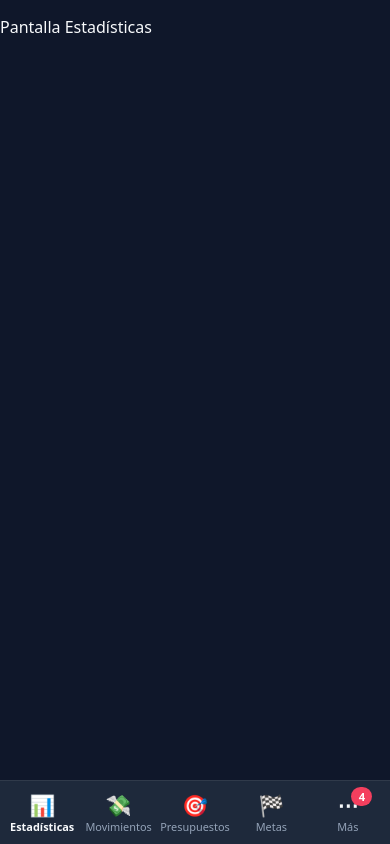
Test: MobileNav › Más abre el panel con las secciones secundarias y el contador
Click the button with aria-label "Más (4 notificaciones sin leer)" at [348, 814], box [310,785,386,843]
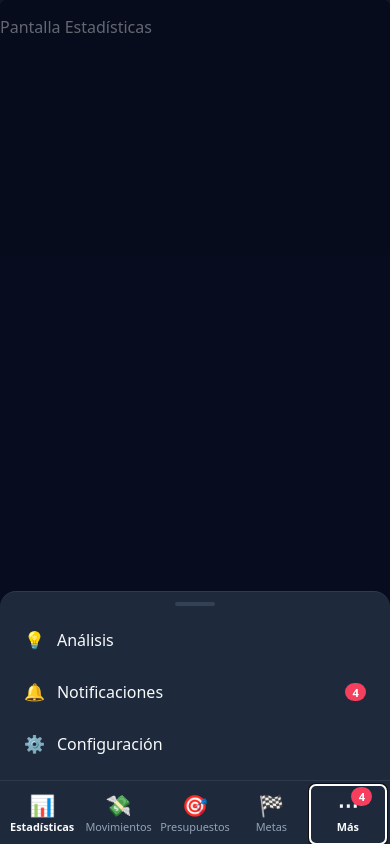
Result: the button with aria-label "Más (4 notificaciones sin leer)" is expanded at [310,785,386,843]
Result: the link "💡 Análisis" is shown at [24,628,114,651]
Result: the link "⚙️ Configuración" is shown at [24,732,163,755]
